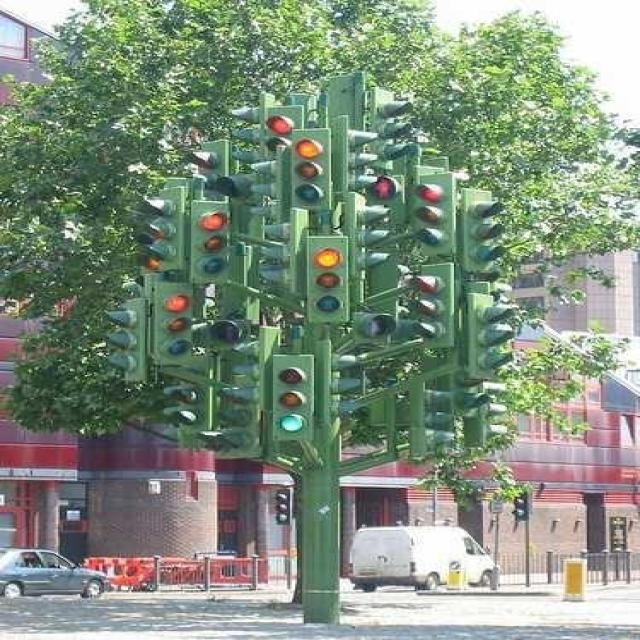Traffic Light -Green-: (270, 351, 322, 445)
Traffic Light -Red-: (406, 266, 461, 352), (306, 234, 354, 328), (289, 127, 331, 217), (154, 284, 199, 368), (192, 202, 234, 284), (415, 178, 454, 257), (369, 180, 405, 240), (270, 106, 298, 160)
